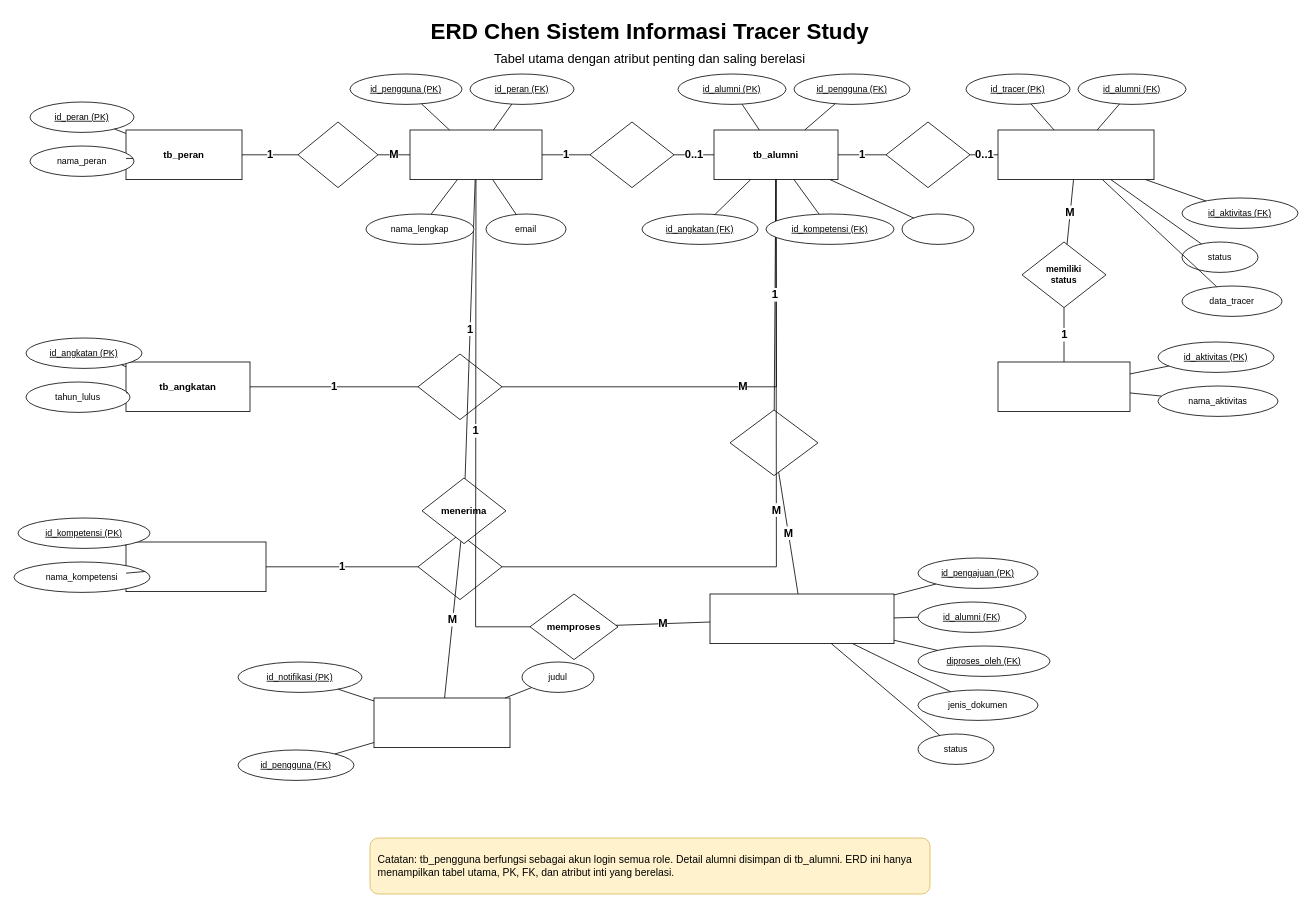
This 1312x908 diagram has some shape labels left out. Each missing label, with the box of its shape:
berasal dari: (417, 533, 502, 600)
memiliki: (297, 121, 378, 188)
memiliki profil: (589, 121, 674, 188)
mengajukan: (729, 409, 818, 476)
mengisi: (885, 121, 970, 188)
nisn: (901, 213, 974, 244)
tb_aktivitas: (997, 361, 1130, 412)
tb_kompetensi: (125, 541, 266, 592)
tb_notifikasi: (373, 697, 510, 748)
tb_pengajuan_legalisir: (709, 593, 894, 644)
tb_pengguna: (409, 129, 542, 180)
tb_tracer_alumni: (997, 129, 1154, 180)
terdaftar: (417, 353, 502, 420)
